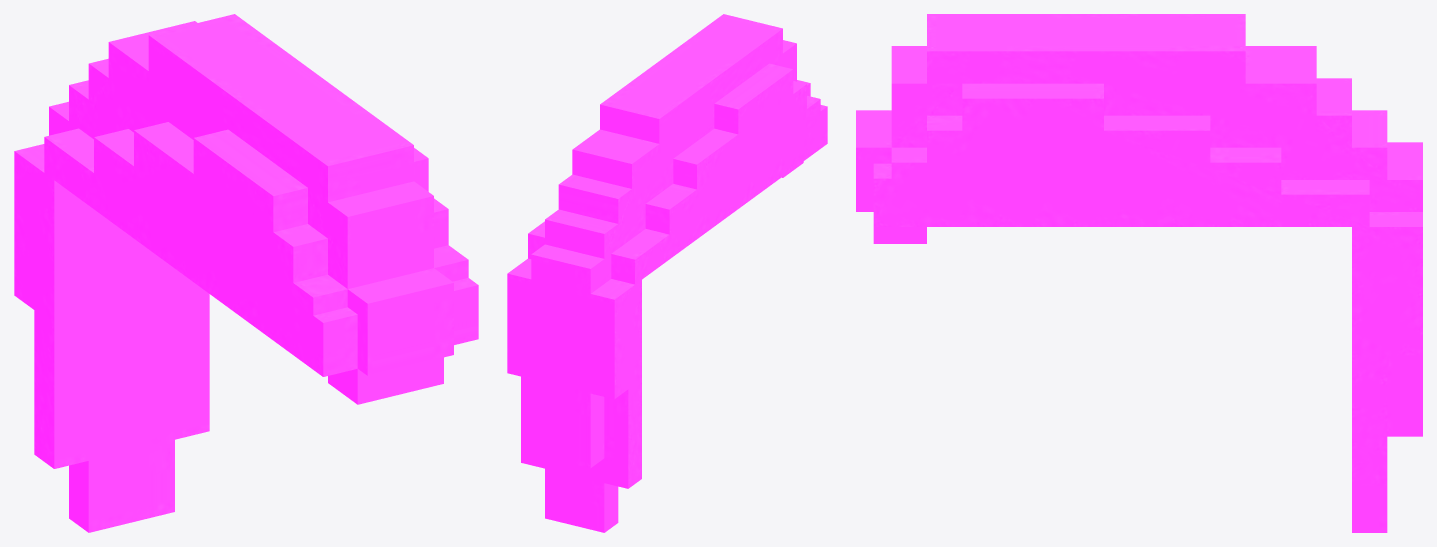
Rendered from mohawk_pink.glb.
3 renders of one model, left to right at view 1: azimuth 30°, elevation 25°; view 2: azimuth 150°, elevation 25°; view 3: azimuth 270°, elevation 25°, orthographic. The views are drawn at different scales.
Parts seen in each view (by area): view 1: mohawk.001; view 2: mohawk.001; view 3: mohawk.001.
Boxes of the visible parts, x1,y1,x2,y2 form: mohawk.001: [14, 14, 478, 532]; mohawk.001: [507, 14, 827, 532]; mohawk.001: [856, 14, 1422, 532].
Size of the model in its own units: 0.9 by 3 by 3.2.
Materials: 1 (1 with a texture image).
